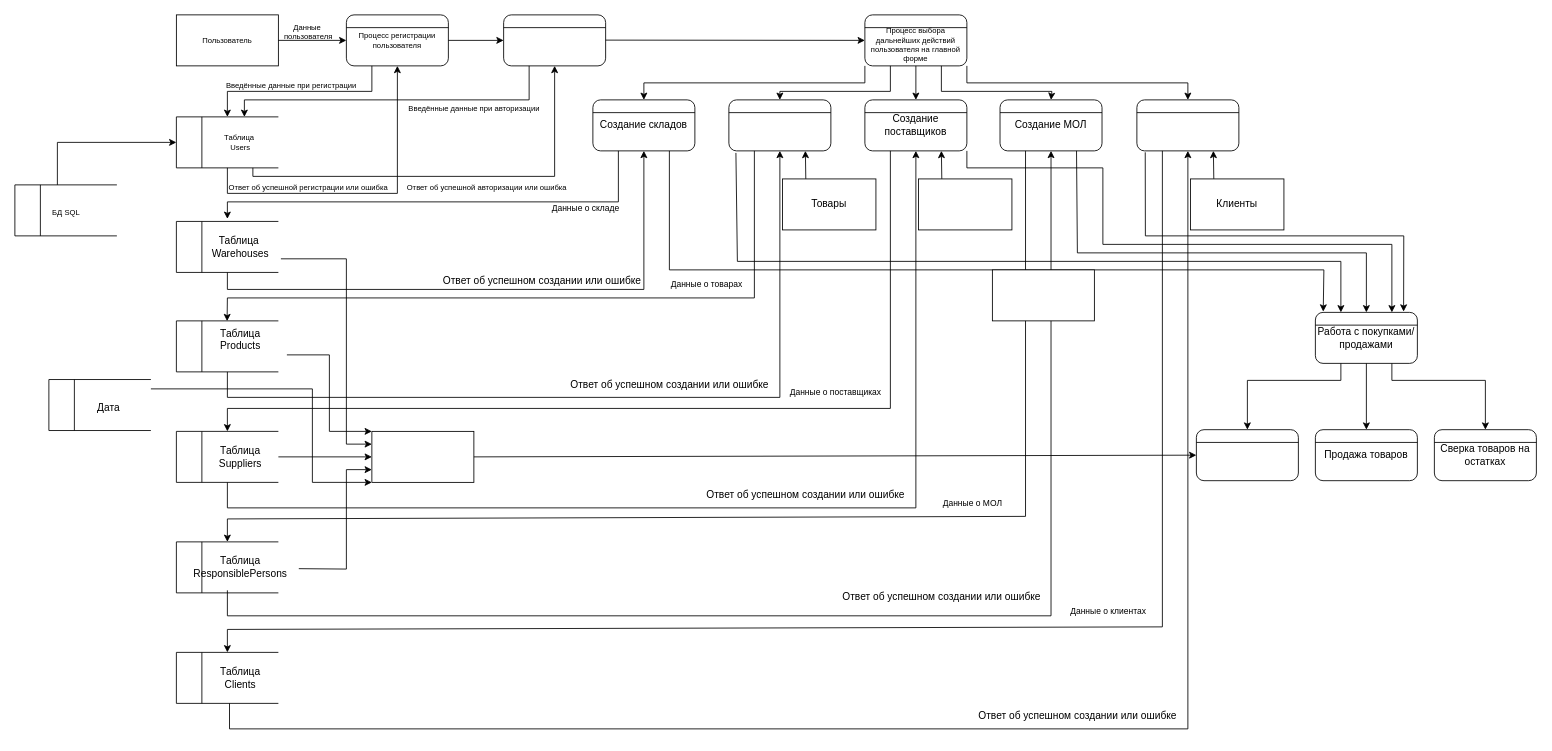
This 1552x751 diagram has some shape labels left out. Each missing label, with the centre of its shape:
Данные для заполнения накладной: (422,456)
Покупка: (1247,455)
Поставщики: (965,204)
Процесс авторизации пользователя: (554,40)
Создание клиентов: (1187,125)
Создание товаров: (779,125)
